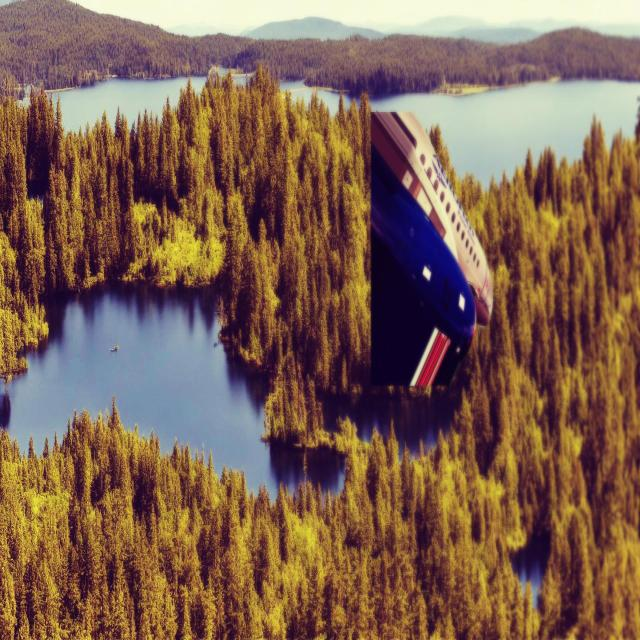airplane: (370, 108, 493, 390)
